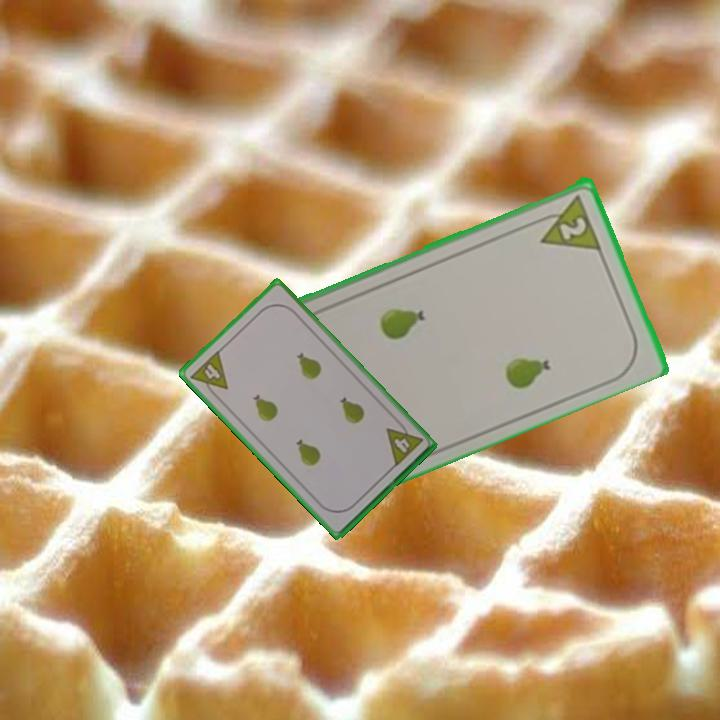2p: (530, 190, 604, 253)
4p: (186, 347, 231, 401), (382, 416, 425, 470)
